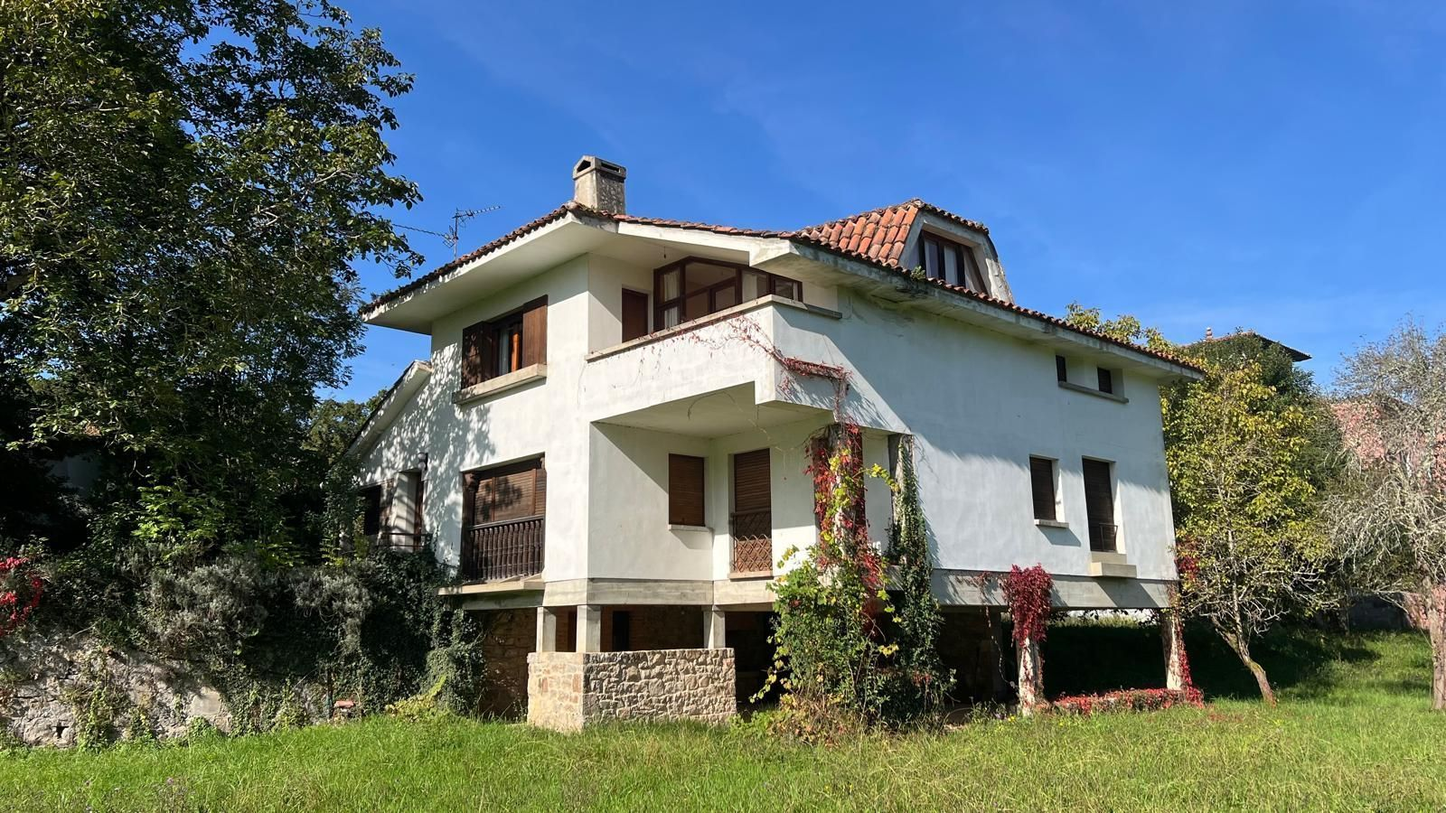House: (306, 113, 1254, 733)
